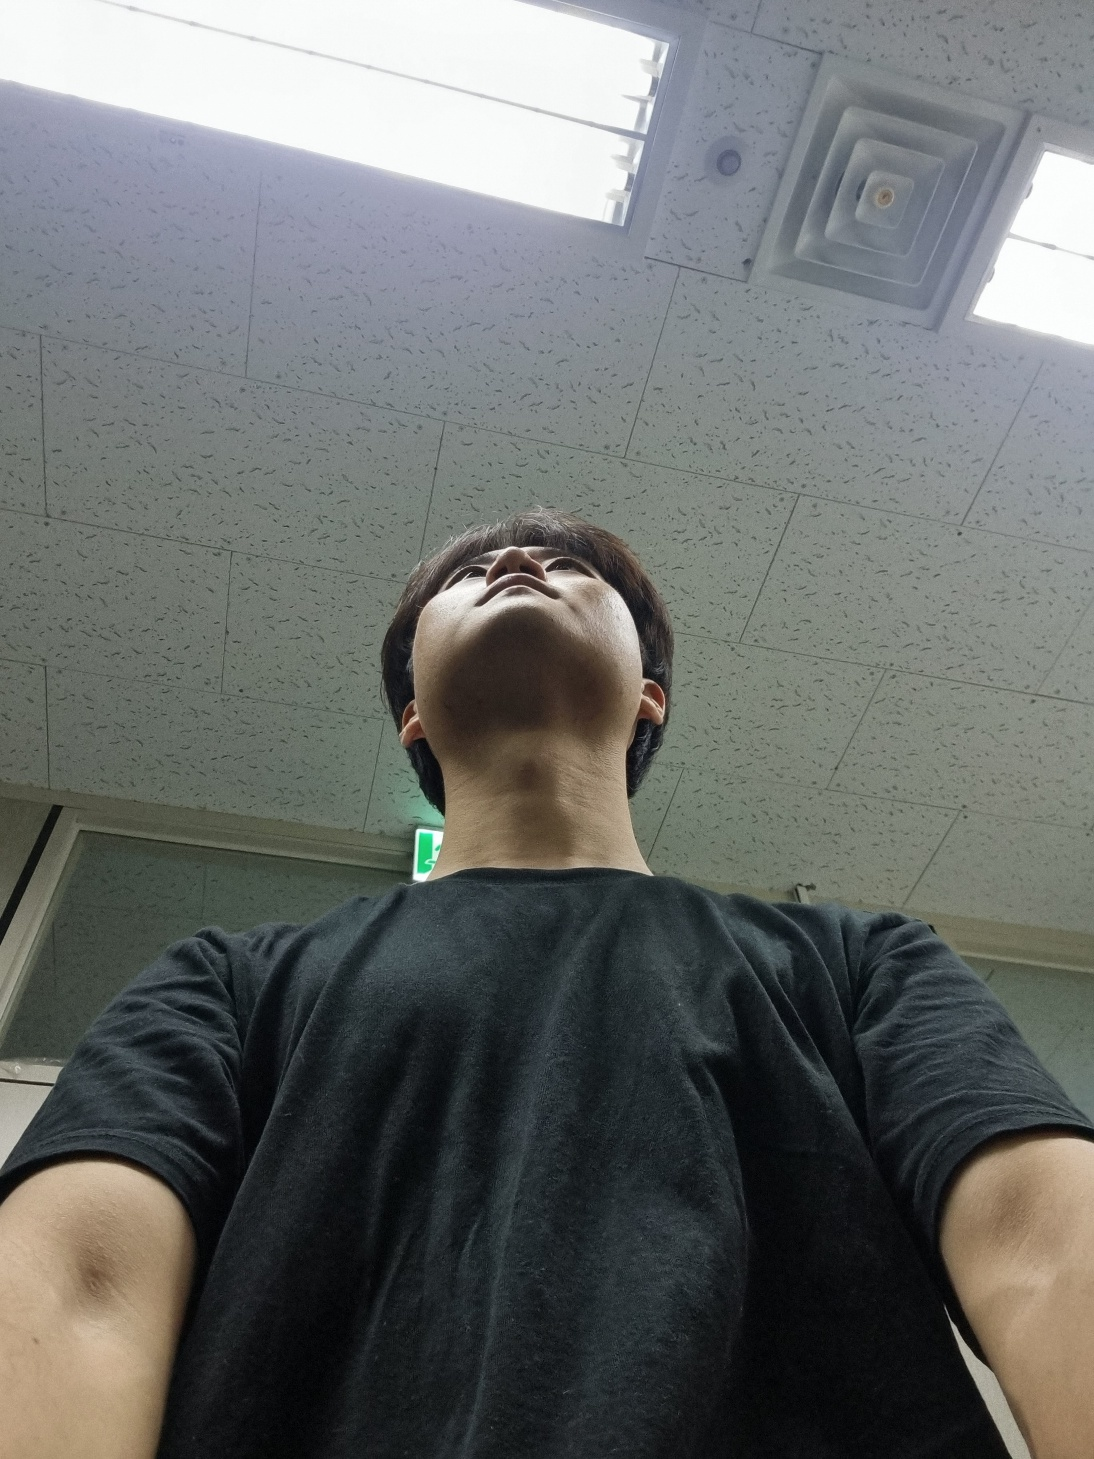Non-Helmet: (310, 463, 747, 849)
